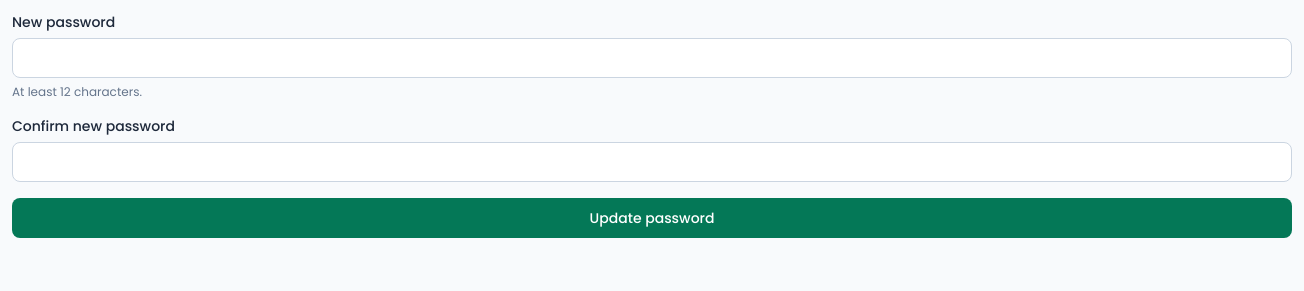
Test case: ResetPasswordForm › surfaces an invalid/expired token error from the action
In the password field labelled "New password": point(652, 58) [12,38,1292,78], type "a-brand-new-password"
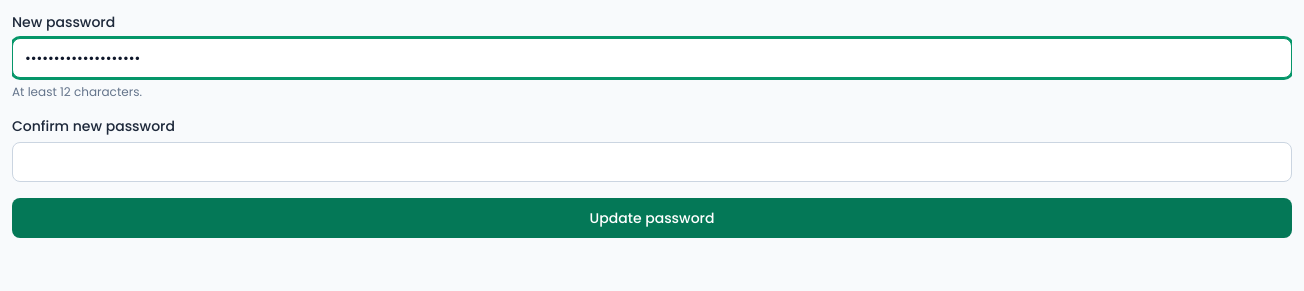
In the password field labelled "Confirm new password": point(652, 162) [12,142,1292,182], type "a-brand-new-password"
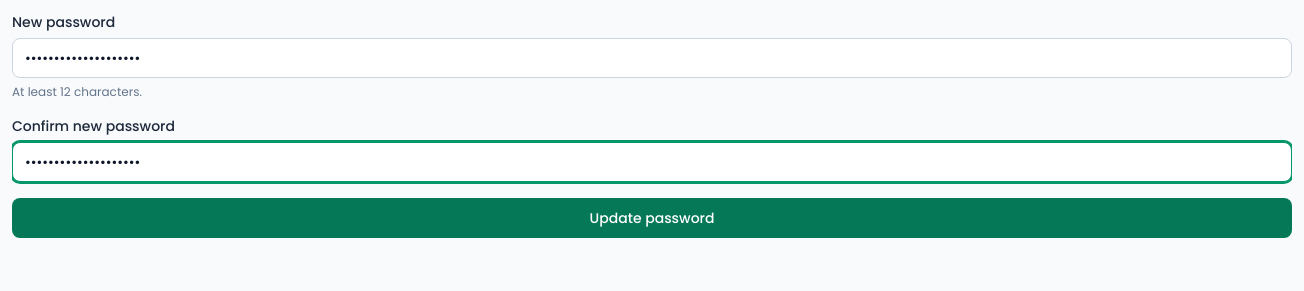
Click the button "Update password": point(652, 218) [12,198,1292,238]
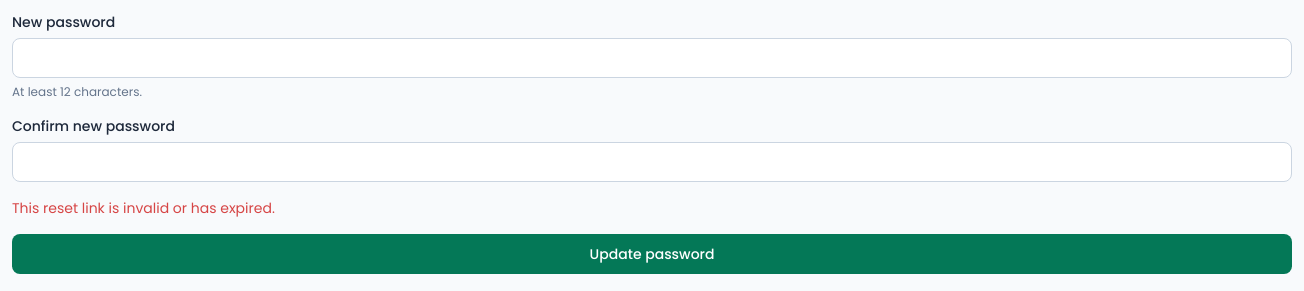
Result: the message reads "This reset link is invalid or has expired." at [12,198,275,218]
